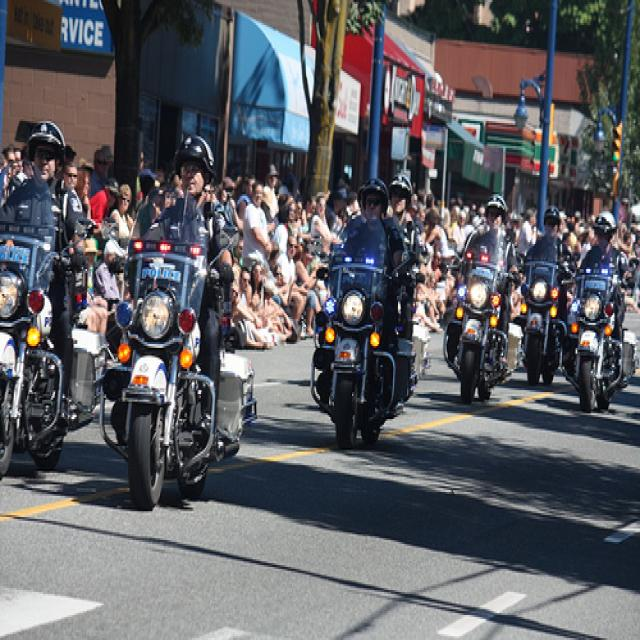motor: (98, 188, 238, 508), (308, 217, 422, 448), (0, 178, 76, 468), (571, 267, 638, 413), (518, 251, 581, 384), (457, 227, 507, 394)
